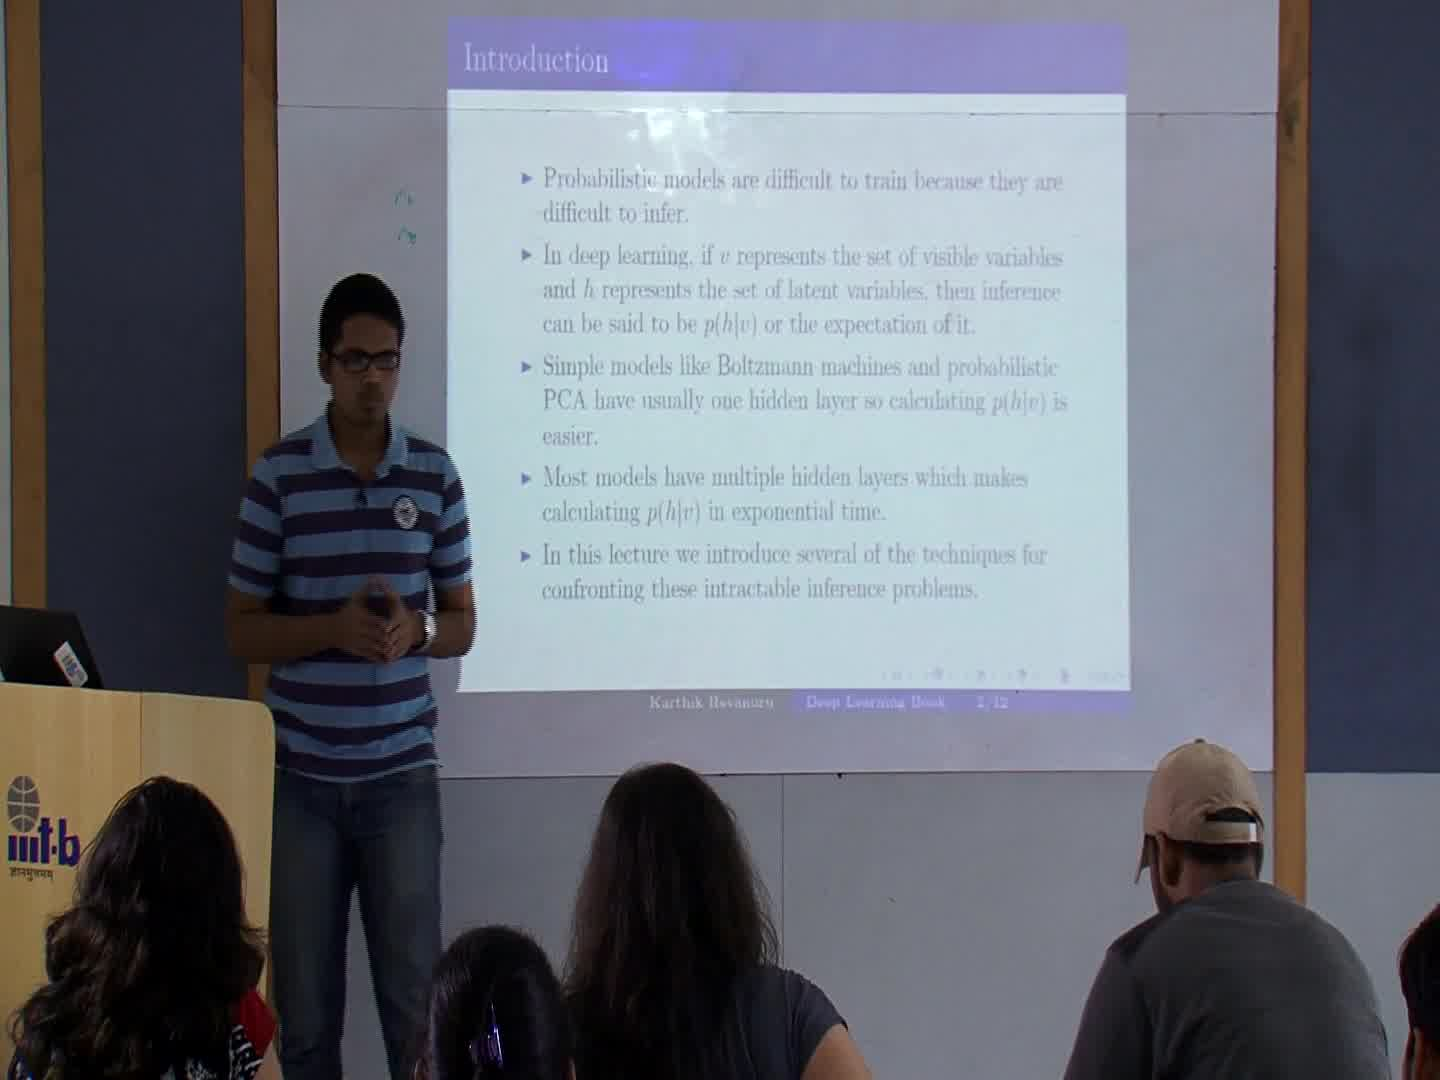slide: (446, 17, 1134, 715)
